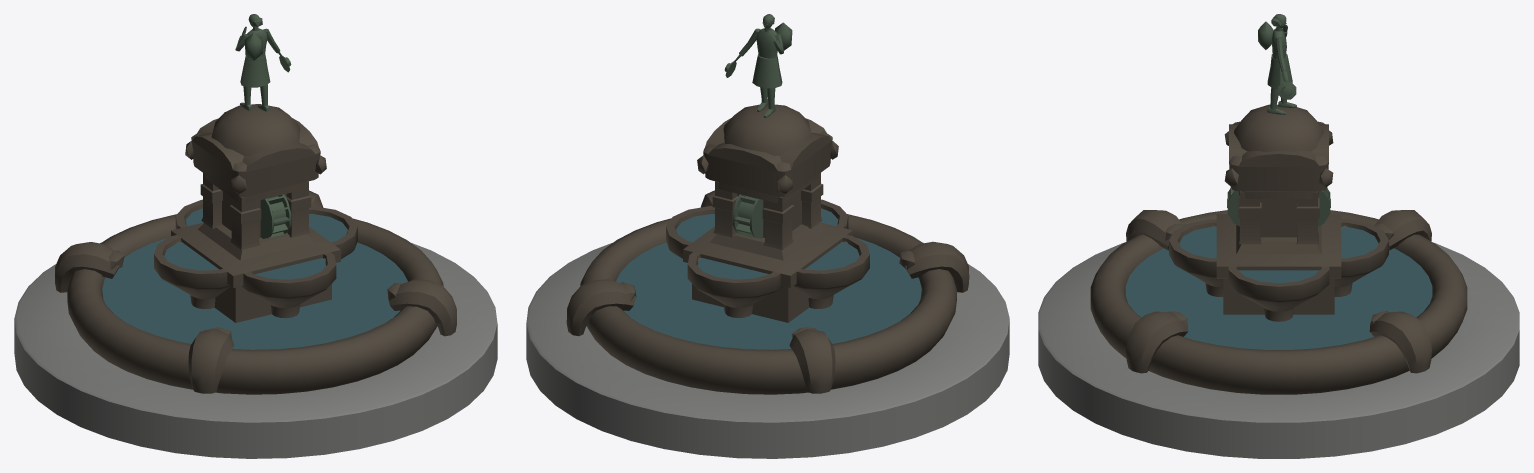
Rendered from mon_muellerbrunnen.glb.
3 views of the same model, side by side, from view 1: azimuth 30°, elevation 25°; view 2: azimuth 150°, elevation 25°; view 3: azimuth 270°, elevation 25° (orthographic).
Parts seen in each view (by area): view 1: mon_muellerbrunnen; view 2: mon_muellerbrunnen; view 3: mon_muellerbrunnen.
Part boxes in pixels (bbox=[...]): mon_muellerbrunnen: bbox=[14, 14, 497, 458]; mon_muellerbrunnen: bbox=[526, 14, 1009, 458]; mon_muellerbrunnen: bbox=[1038, 14, 1519, 458].
Size of the model in its own units: 8.67 by 6.8 by 8.67.
